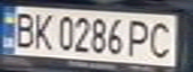0: (54, 12, 75, 52)
2: (72, 14, 93, 53)
6: (106, 16, 127, 56)
8: (90, 15, 109, 55)
B: (9, 9, 39, 50)
C: (145, 18, 178, 58)
K: (30, 10, 57, 51)
P: (124, 17, 154, 57)
